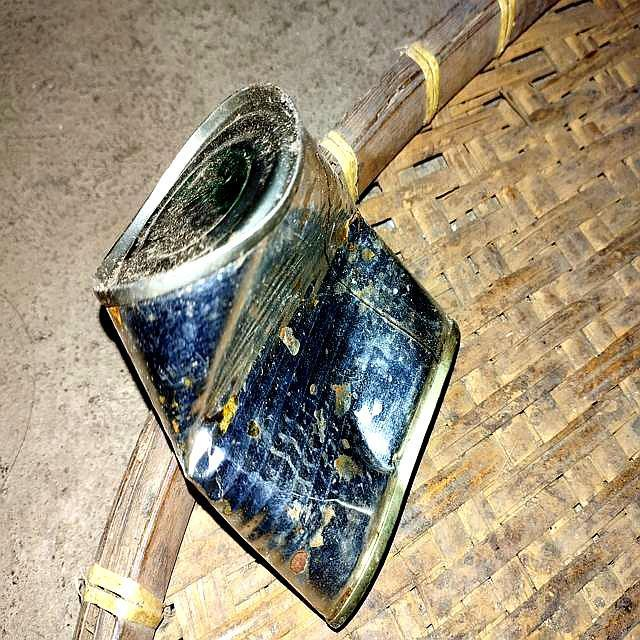Non-biodegradable: (10, 59, 477, 640)
